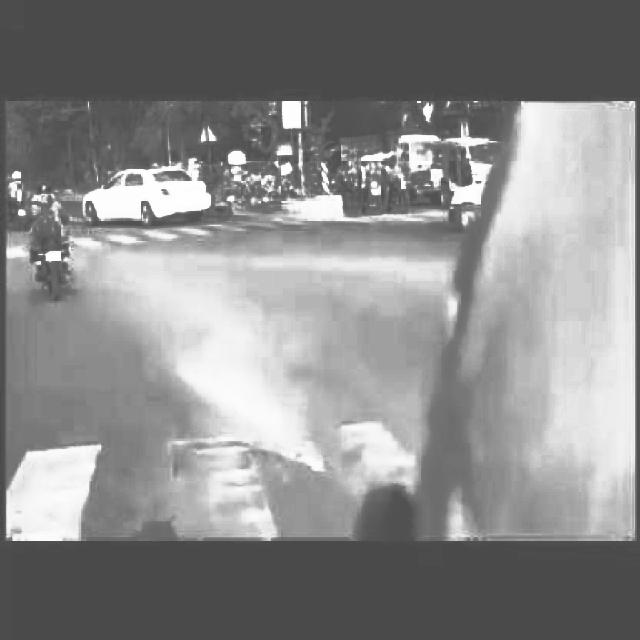Car: (77, 151, 230, 244)
